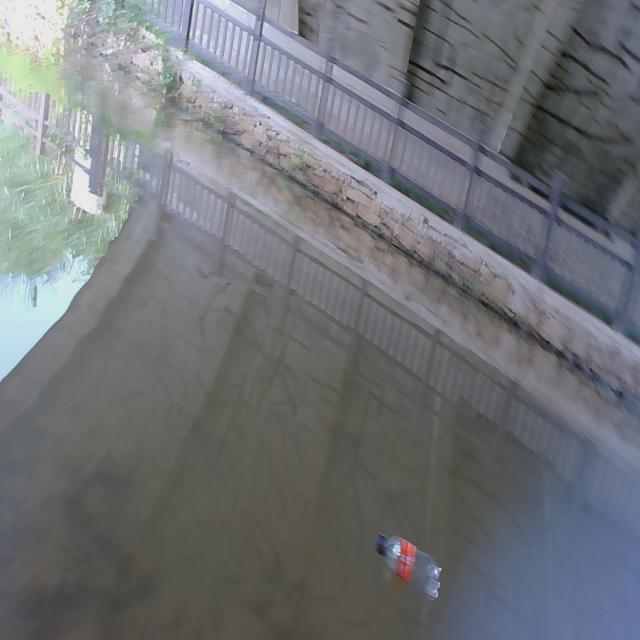bottle: (363, 512, 454, 604)
